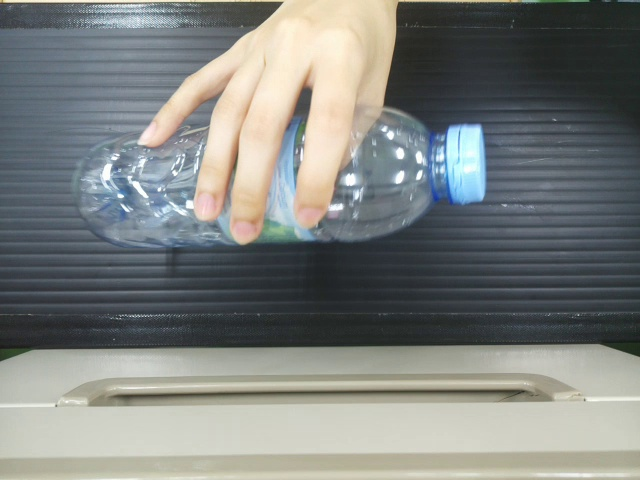bottle: (327, 100, 492, 242), (70, 128, 201, 249)
